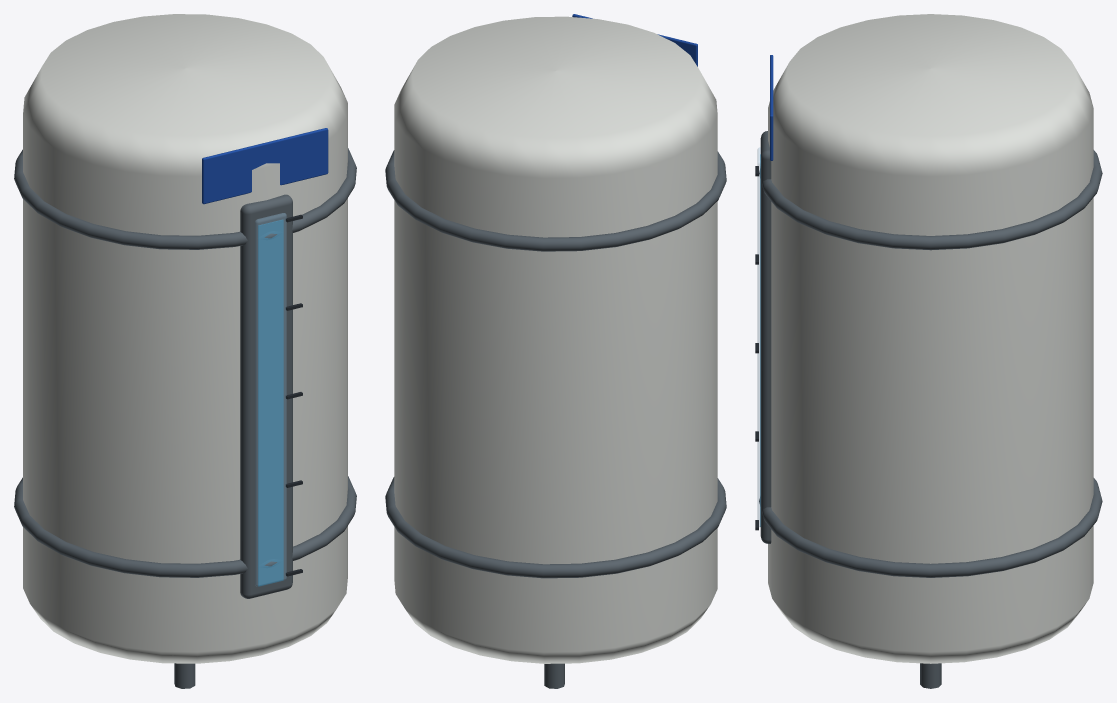
File: greenhouse-water-tank.glb
The picture shows the model from 3 angles, left to right: view 1: azimuth 30°, elevation 25°; view 2: azimuth 150°, elevation 25°; view 3: azimuth 270°, elevation 25°; orthographic projection.
Parts seen in each view (by area): view 1: greenhouse-water-tank-hull-white, greenhouse-water-tank-dark-steel, greenhouse-water-tank-glass, level_water, greenhouse-water-tank-nasa-blue; view 2: greenhouse-water-tank-hull-white, greenhouse-water-tank-dark-steel; view 3: greenhouse-water-tank-hull-white, greenhouse-water-tank-dark-steel, greenhouse-water-tank-glass.
Part boxes in pixels (x1,y1,x2,y2): greenhouse-water-tank-hull-white: (23,14,347,663); greenhouse-water-tank-dark-steel: (14,148,356,688); greenhouse-water-tank-glass: (255,213,286,586); level_water: (258,219,283,586); greenhouse-water-tank-nasa-blue: (202,128,328,204); greenhouse-water-tank-hull-white: (394,16,717,663); greenhouse-water-tank-dark-steel: (385,150,726,688); greenhouse-water-tank-hull-white: (768,14,1093,663); greenhouse-water-tank-dark-steel: (759,131,1102,688); greenhouse-water-tank-glass: (757,147,760,526).
Bounding box in the file's own units: 0.95 × 1.72 × 0.96.
